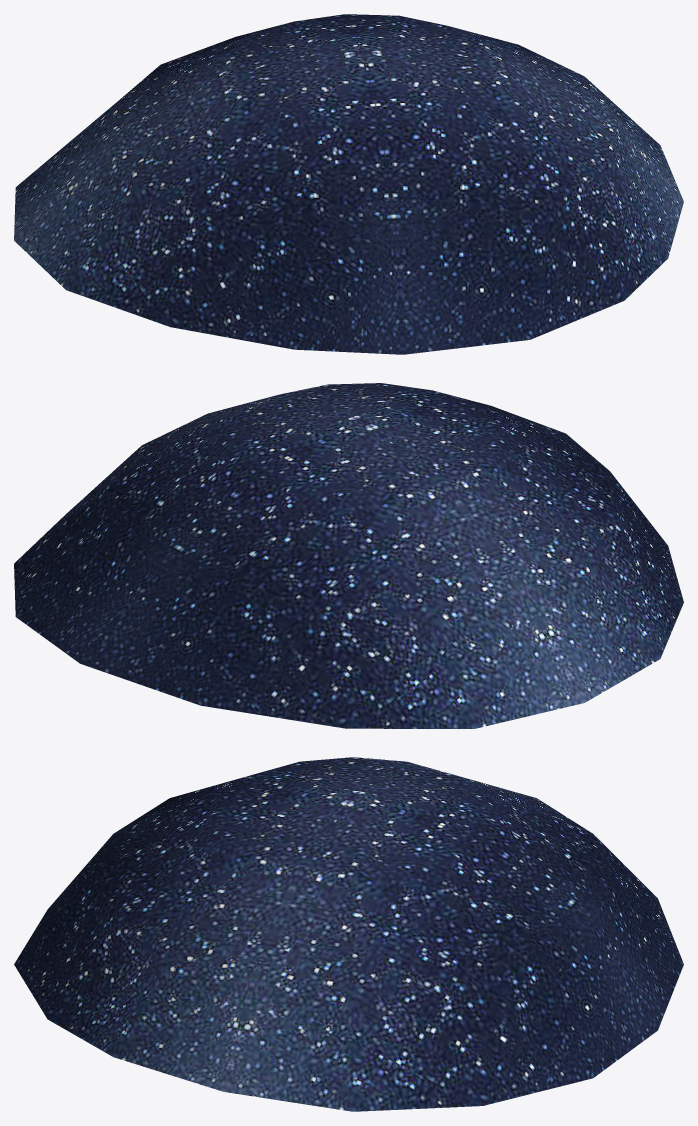
File: StarrySky01_Maincity_001.FBX
3 renders of one model, top to bottom at view 1: azimuth 30°, elevation 25°; view 2: azimuth 150°, elevation 25°; view 3: azimuth 270°, elevation 25°, orthographic.
Visible parts, largest first — view 1: StarrySky01_Maincity_001; view 2: StarrySky01_Maincity_001; view 3: StarrySky01_Maincity_001.
Part boxes in pixels (x1,y1,x2,y2): StarrySky01_Maincity_001: [14, 14, 683, 354]; StarrySky01_Maincity_001: [14, 383, 683, 728]; StarrySky01_Maincity_001: [14, 757, 683, 1111].
Size of the model in its own units: 1799 by 480 by 1729.
